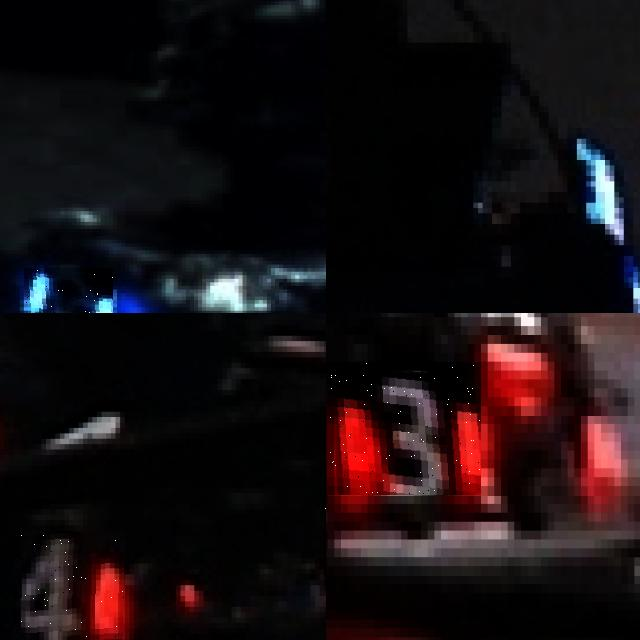Bs: (24, 268, 113, 313)
R3: (328, 362, 481, 495)
R4: (13, 531, 124, 640)
